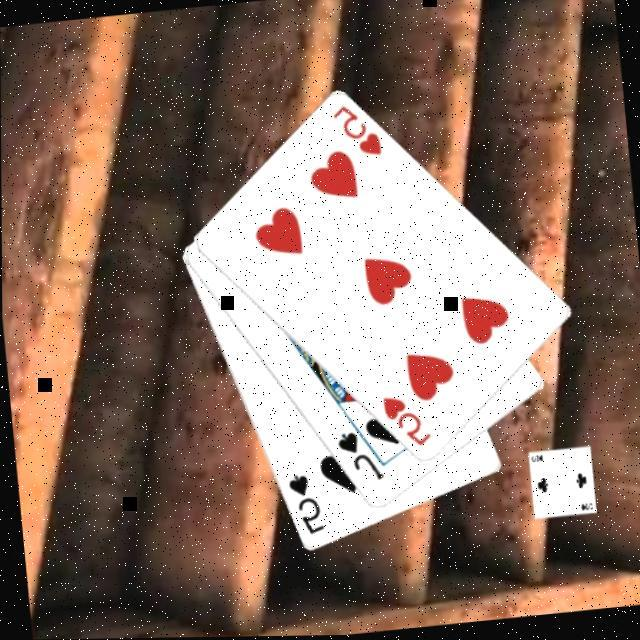5H: (378, 391, 436, 456), (329, 102, 386, 167)
5S: (283, 472, 327, 543)
JS: (333, 428, 387, 491)
